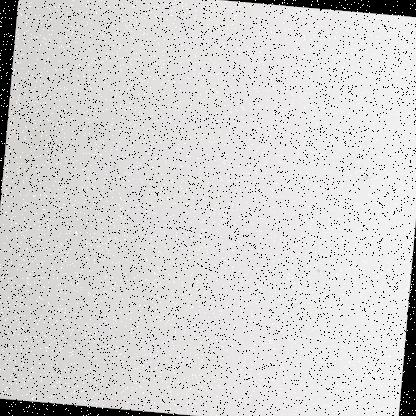Nocrack: (9, 0, 415, 410)
